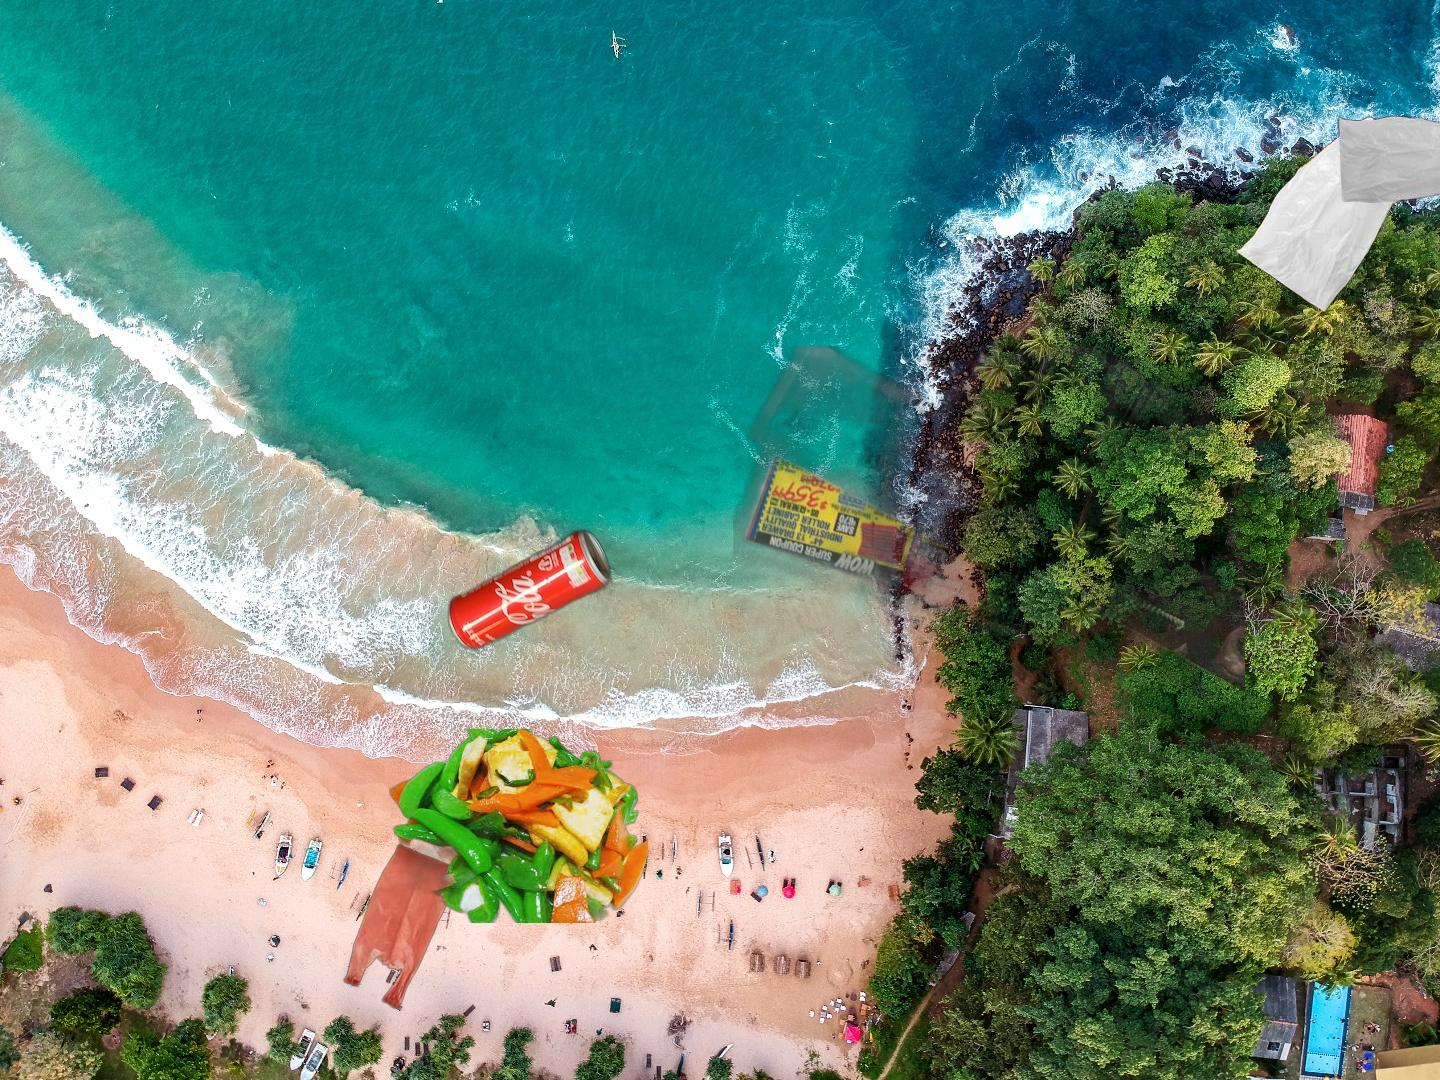biological: (389, 729, 648, 923)
clothes: (1282, 962, 1440, 1080)
metal-cans: (443, 125, 895, 808)
paper: (733, 346, 1245, 730)
paper-bag: (1309, 1039, 1440, 1080)
penholder: (1438, 971, 1440, 1080)
plastic-bag: (1232, 113, 1440, 313), (341, 840, 464, 1011)
